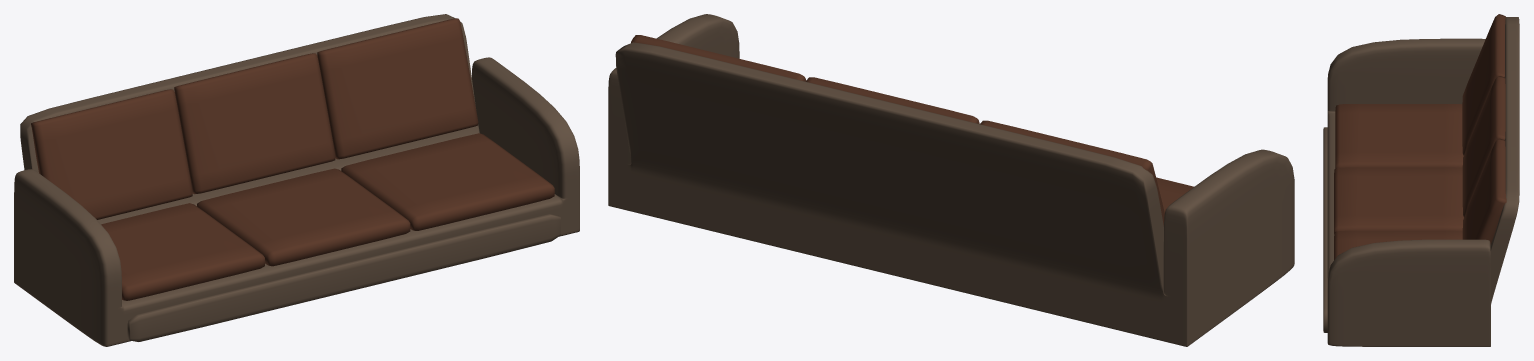
Rendered from sofa_pivot.fbx.
3 renders of one model, left to right at view 1: azimuth 30°, elevation 25°; view 2: azimuth 150°, elevation 25°; view 3: azimuth 270°, elevation 25°, orthographic. The views are drawn at different scales.
Parts seen in each view (by area): view 1: Cube.019; view 2: Cube.019; view 3: Cube.019.
Boxes of the visible parts, x1,y1,x2,y2 form: Cube.019: [14, 14, 579, 346]; Cube.019: [608, 14, 1294, 346]; Cube.019: [1323, 14, 1519, 346].
Size of the model in its own units: 989 by 300 by 392.
